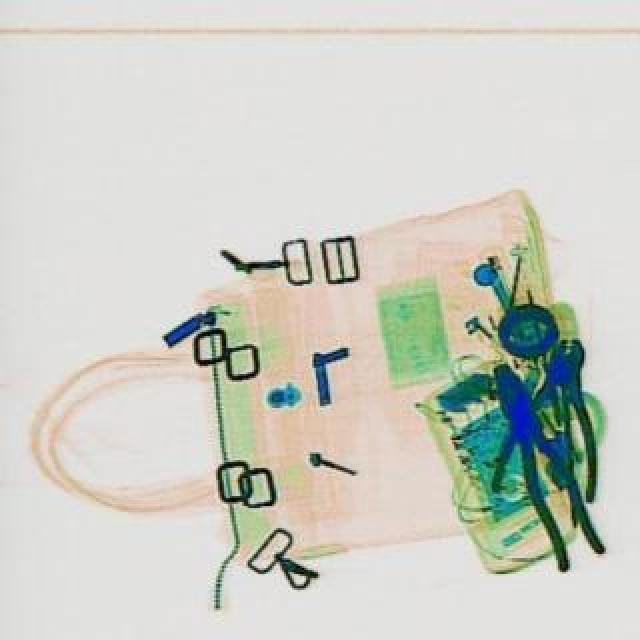wrench: (476, 354, 608, 574), (488, 330, 616, 502)
